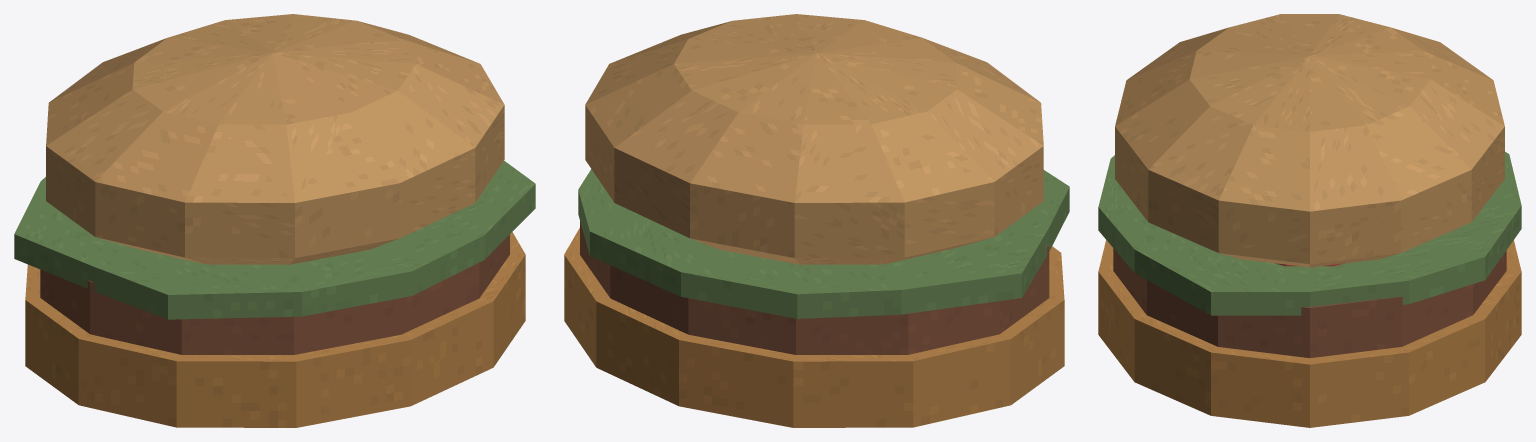
The model's file is hamburger.glb.
3 renders of one model, left to right at view 1: azimuth 30°, elevation 25°; view 2: azimuth 150°, elevation 25°; view 3: azimuth 270°, elevation 25°, orthographic. The views are drawn at different scales.
Parts seen in each view (by area): view 1: block_rounded bun crown, block_bottom bread, block_lettuce, block_cooked filling; view 2: block_rounded bun crown, block_bottom bread, block_lettuce, block_cooked filling; view 3: block_rounded bun crown, block_bottom bread, block_lettuce, block_cooked filling.
Part boxes in pixels (left/top/right/bottom): block_rounded bun crown: left=46, top=14, right=504, bottom=264; block_bottom bread: left=25, top=232, right=525, bottom=427; block_lettuce: left=14, top=160, right=535, bottom=319; block_cooked filling: left=40, top=234, right=509, bottom=354; block_rounded bun crown: left=585, top=14, right=1043, bottom=264; block_bottom bread: left=564, top=228, right=1064, bottom=427; block_lettuce: left=578, top=169, right=1069, bottom=318; block_cooked filling: left=580, top=221, right=1049, bottom=354; block_rounded bun crown: left=1115, top=14, right=1504, bottom=267; block_bottom bread: left=1098, top=240, right=1521, bottom=427; block_lettuce: left=1098, top=152, right=1521, bottom=315; block_cooked filling: left=1113, top=248, right=1506, bottom=358.
Bounding box in the file's own units: 0.1279 × 0.0743 × 0.107.
1 material, 1 textured.
